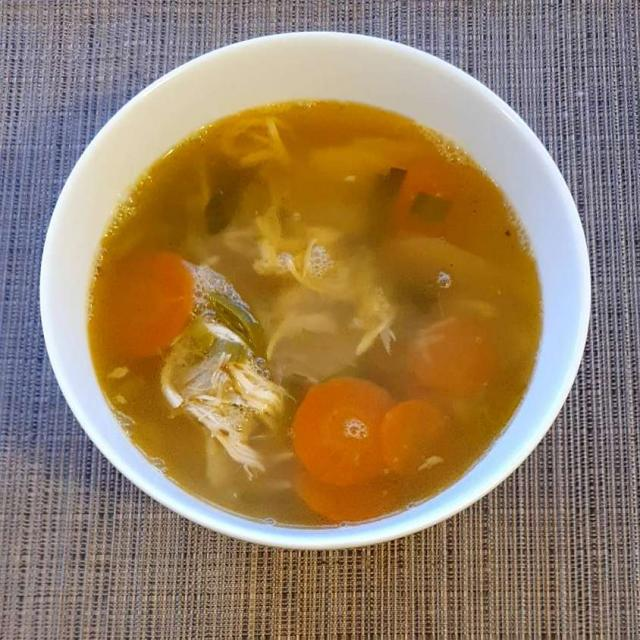carrot-raw: (99, 127, 491, 507)
chicken: (160, 195, 400, 475)
